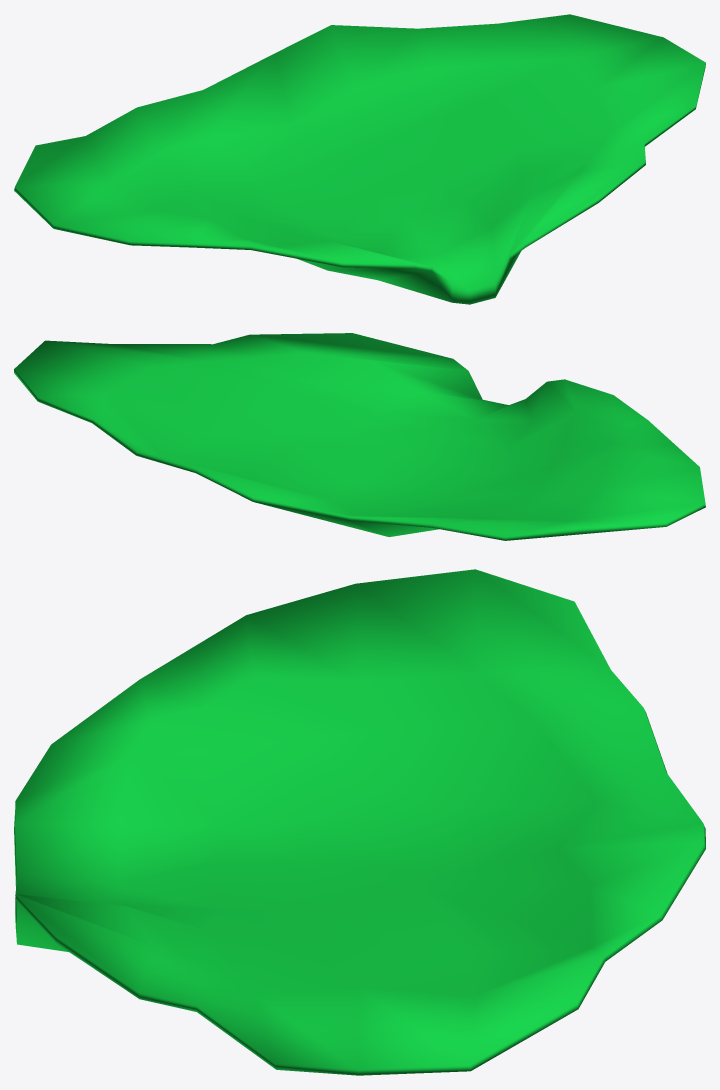
File: Koraal_Plane3.fbx
3 views of the same model, one above another, from view 1: azimuth 30°, elevation 25°; view 2: azimuth 150°, elevation 25°; view 3: azimuth 270°, elevation 25° (orthographic). The views are drawn at different scales.
Visible parts, largest first — view 1: CubePane2; view 2: CubePane2; view 3: CubePane2.
Boxes of the visible parts, <box> form: CubePane2: <box>14,14,705,304</box>; CubePane2: <box>14,333,705,540</box>; CubePane2: <box>14,569,705,1075</box>.
Bounding box in the file's own units: 571 × 79.27 × 341.
